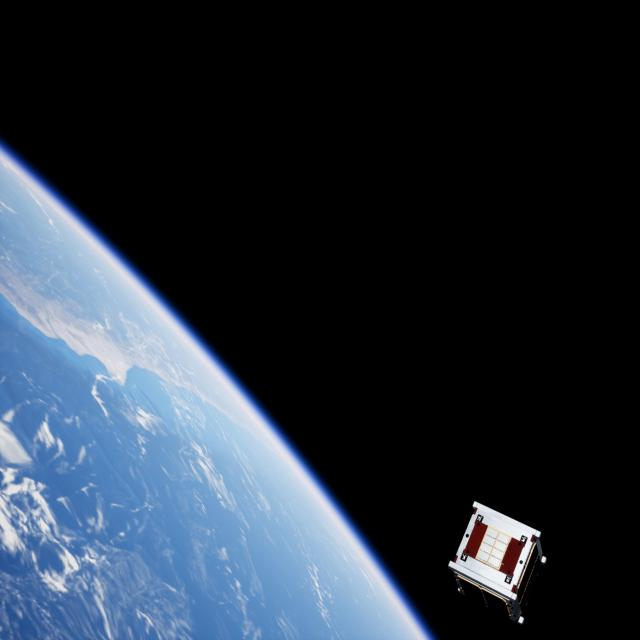satellite: (439, 497, 557, 623)
